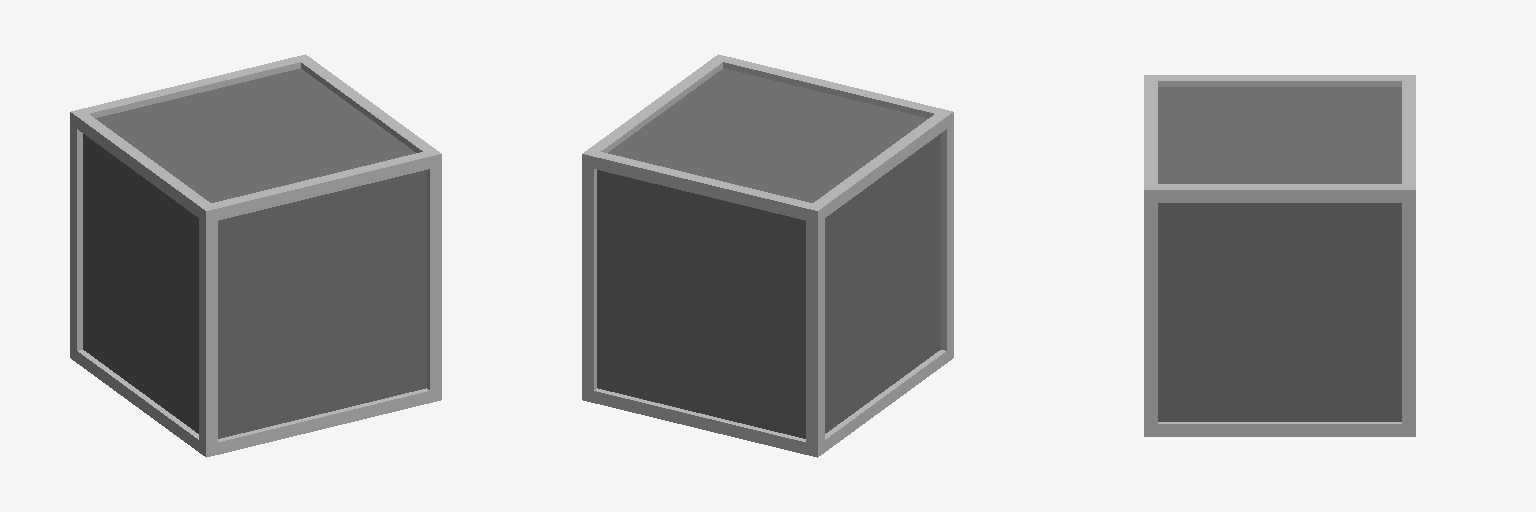
File: glass_neutral.obj
3 views of the same model, side by side, from view 1: azimuth 30°, elevation 25°; view 2: azimuth 150°, elevation 25°; view 3: azimuth 270°, elevation 25° (orthographic).
Parts seen in each view (by area): view 1: glass_geo, glass_geo.001; view 2: glass_geo, glass_geo.001; view 3: glass_geo, glass_geo.001.
Part boxes in pixels (x1,y1,x2,y2): glass_geo: (83,68,426,438); glass_geo.001: (70,54,441,457); glass_geo: (597,68,940,438); glass_geo.001: (582,54,953,457); glass_geo: (1158,87,1401,421); glass_geo.001: (1144,75,1415,436).
Size of the model in its own units: 1 by 1 by 1.